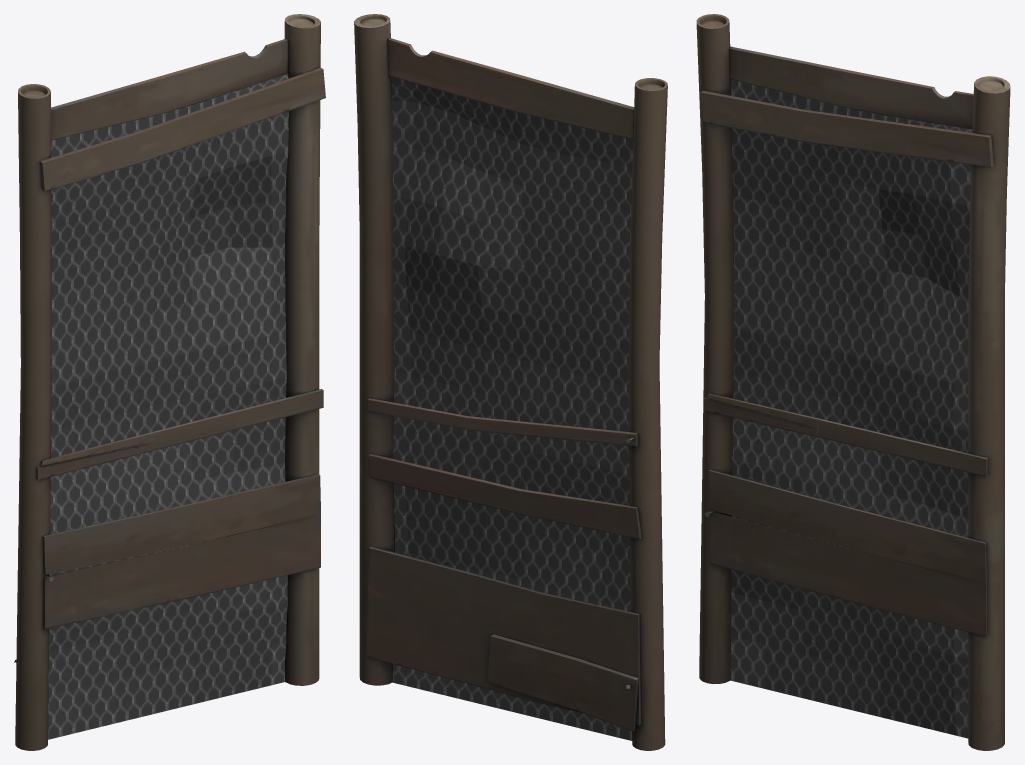
3 renders of one model, left to right at view 1: azimuth 30°, elevation 25°; view 2: azimuth 150°, elevation 25°; view 3: azimuth 330°, elevation 25°, orthographic.
Visible parts, largest first — view 1: body0_model0_lod0_mesh1, body0_model0_lod0_mesh0; view 2: body0_model0_lod0_mesh1, body0_model0_lod0_mesh0; view 3: body0_model0_lod0_mesh1, body0_model0_lod0_mesh0.
Part boxes in pixels (<box>): body0_model0_lod0_mesh1: <box>48,74,288,739</box>; body0_model0_lod0_mesh0: <box>14,14,325,750</box>; body0_model0_lod0_mesh1: <box>391,77,633,740</box>; body0_model0_lod0_mesh0: <box>354,14,667,750</box>; body0_model0_lod0_mesh1: <box>730,79,972,738</box>; body0_model0_lod0_mesh0: <box>696,14,1010,750</box>.
Bounding box in the file's own units: 130 × 268 × 24.73.
Materials: 2 (2 with a texture image).
